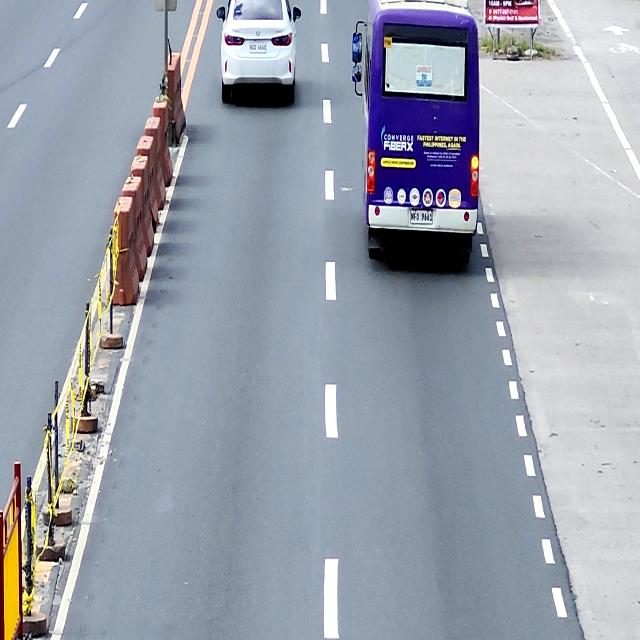Bus: (351, 0, 481, 264)
Car: (216, 0, 302, 106)
License-Plate: (409, 208, 434, 225), (249, 41, 267, 54)
